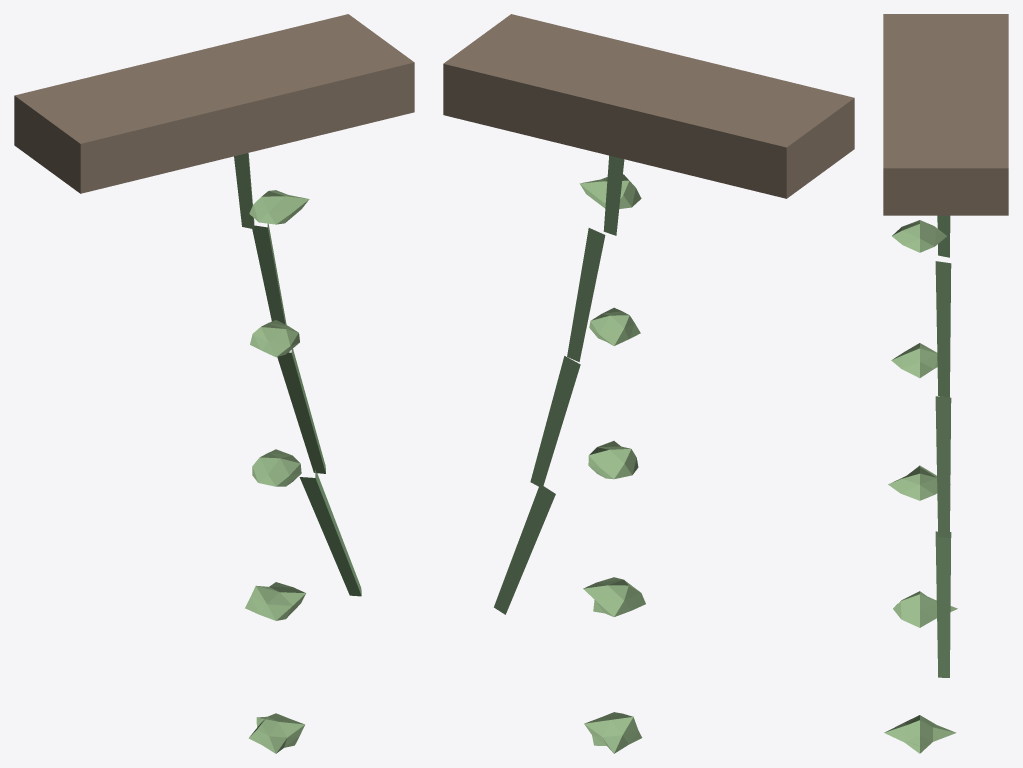
File: vine_v26.glb
3 renders of one model, left to right at view 1: azimuth 30°, elevation 25°; view 2: azimuth 150°, elevation 25°; view 3: azimuth 270°, elevation 25°, orthographic. The views are drawn at different scales.
Visible parts, largest first — view 1: lod0; view 2: lod0; view 3: lod0.
Part boxes in pixels (bbox=[...]): lod0: bbox=[14, 14, 414, 753]; lod0: bbox=[443, 14, 854, 753]; lod0: bbox=[883, 14, 1008, 753].
Size of what is drawn, in the model's own units: 0.7 by 1.35 by 0.24.
